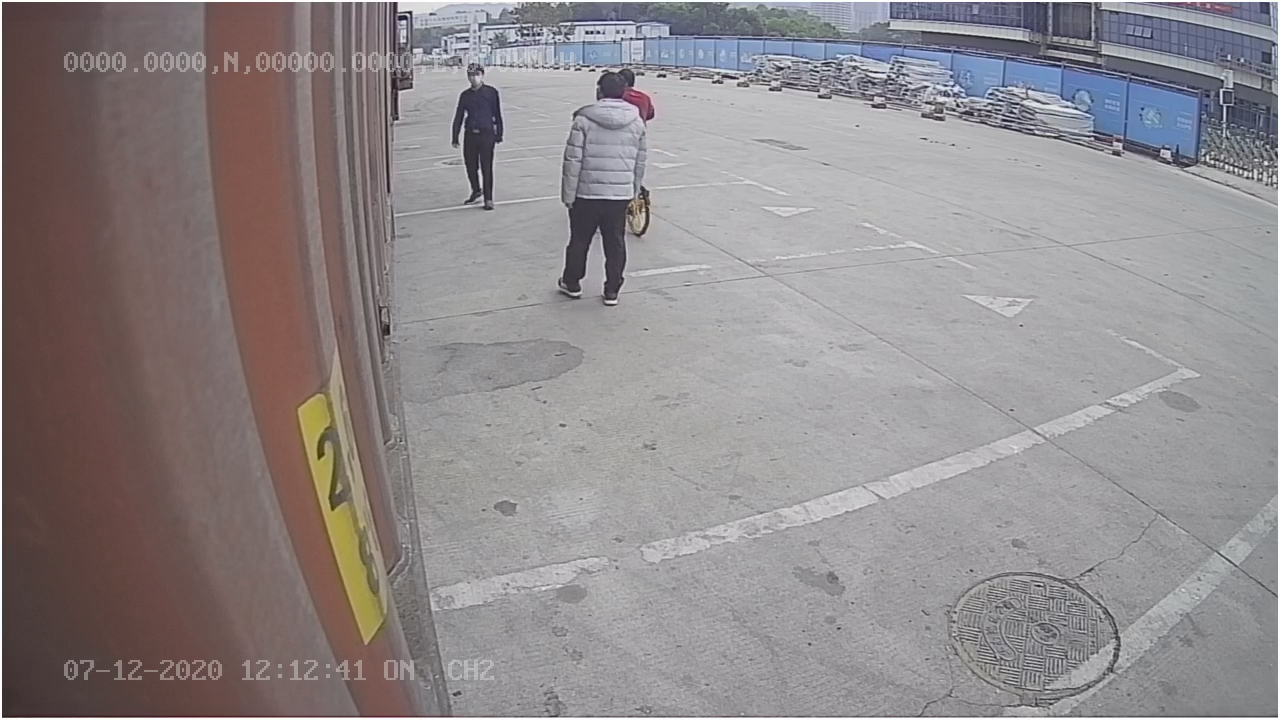person: (558, 70, 647, 307)
